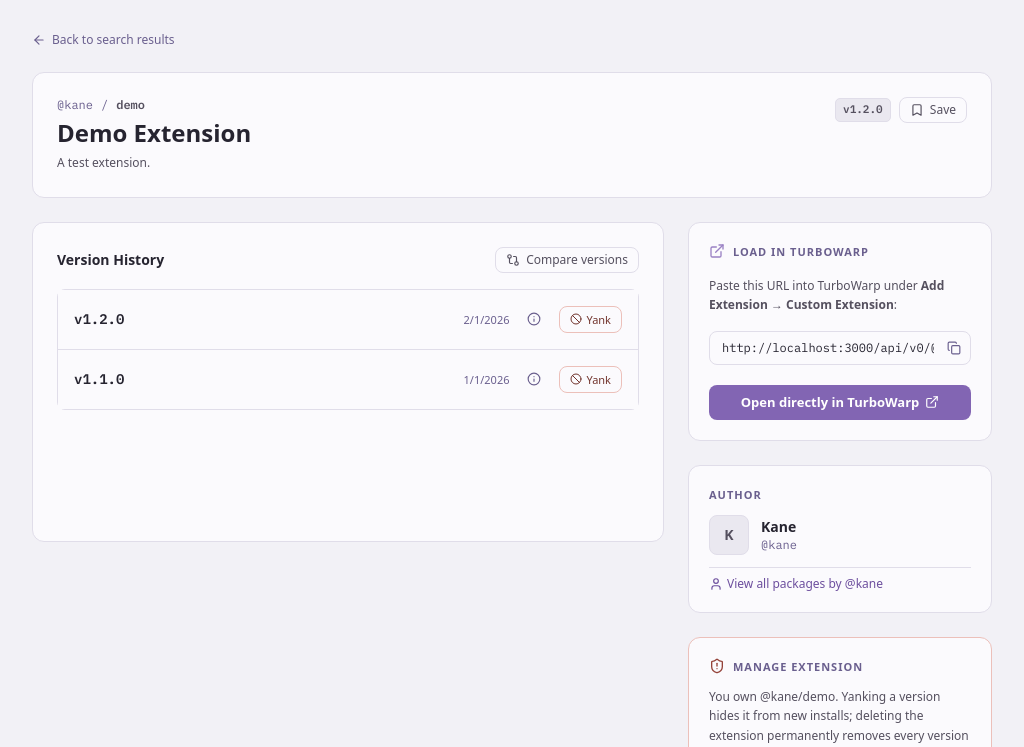
Scenario: ExtensionDetailPage › lets the owner yank a published version
Expected: the heading "Demo Extension" is shown, [57,117,251,149]
Click the button "Yank" next to "2/1/2026" at point(591, 319), box [560,306,622,332]
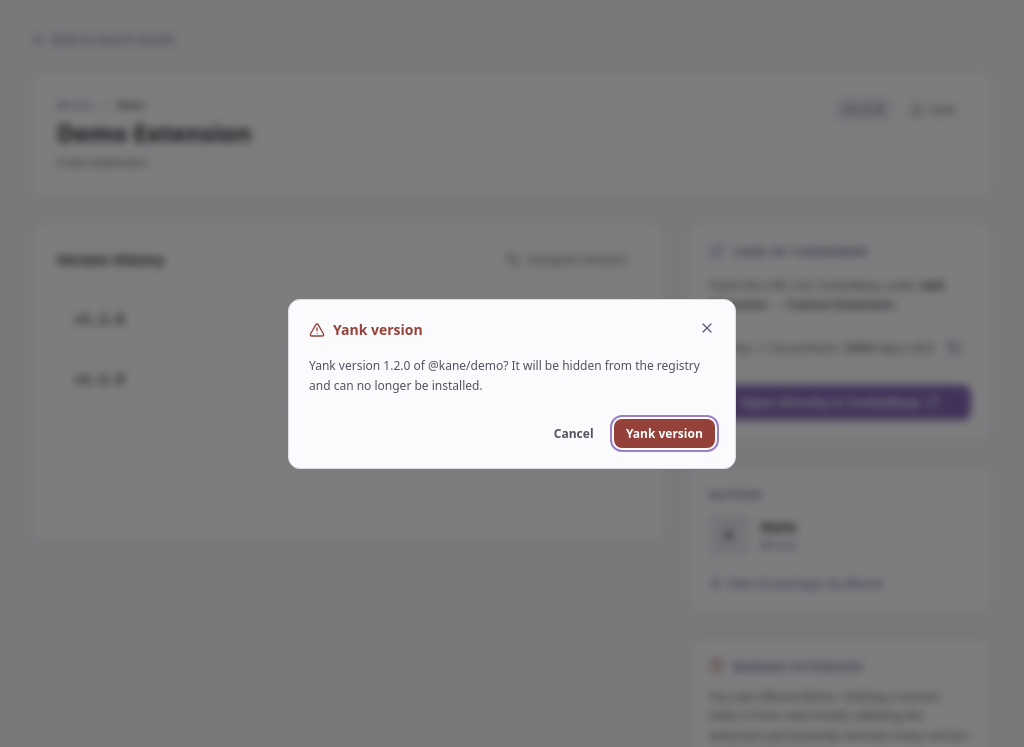
Click the button "Yank version" at point(664, 434), box [614,419,715,448]
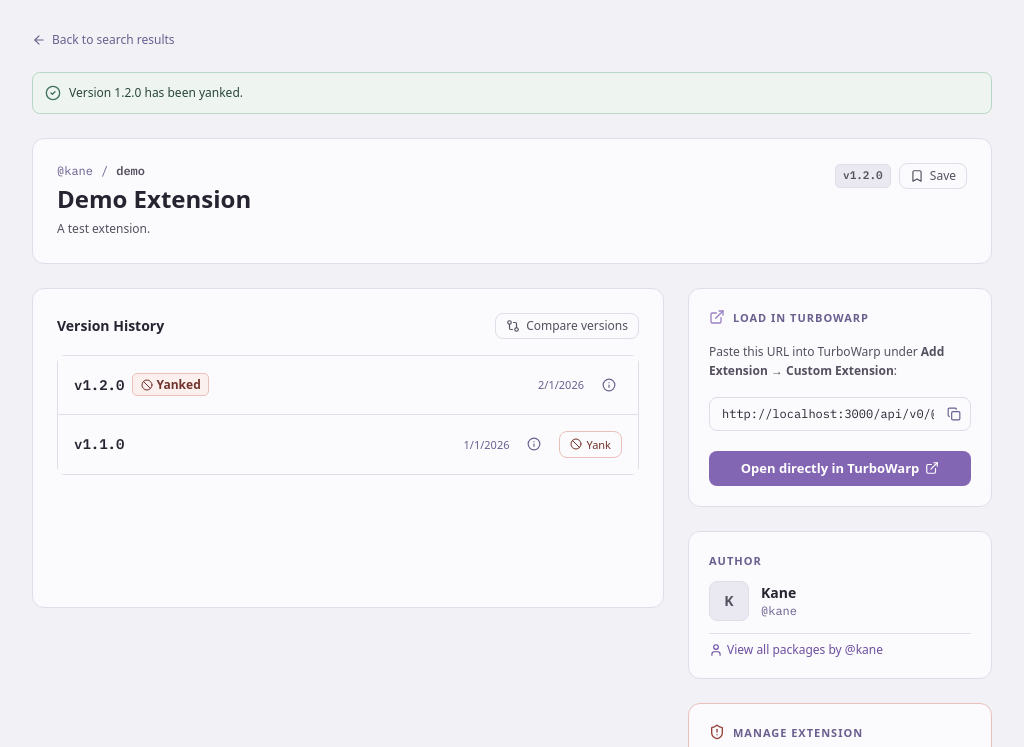
Expected: the text "Version 1.2.0 has been yanked." is shown, [69,85,243,101]
Expected: the text "Yanked" is shown, [157,376,201,392]
